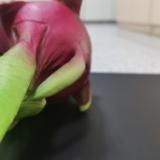pitaya: (1, 1, 93, 118)
